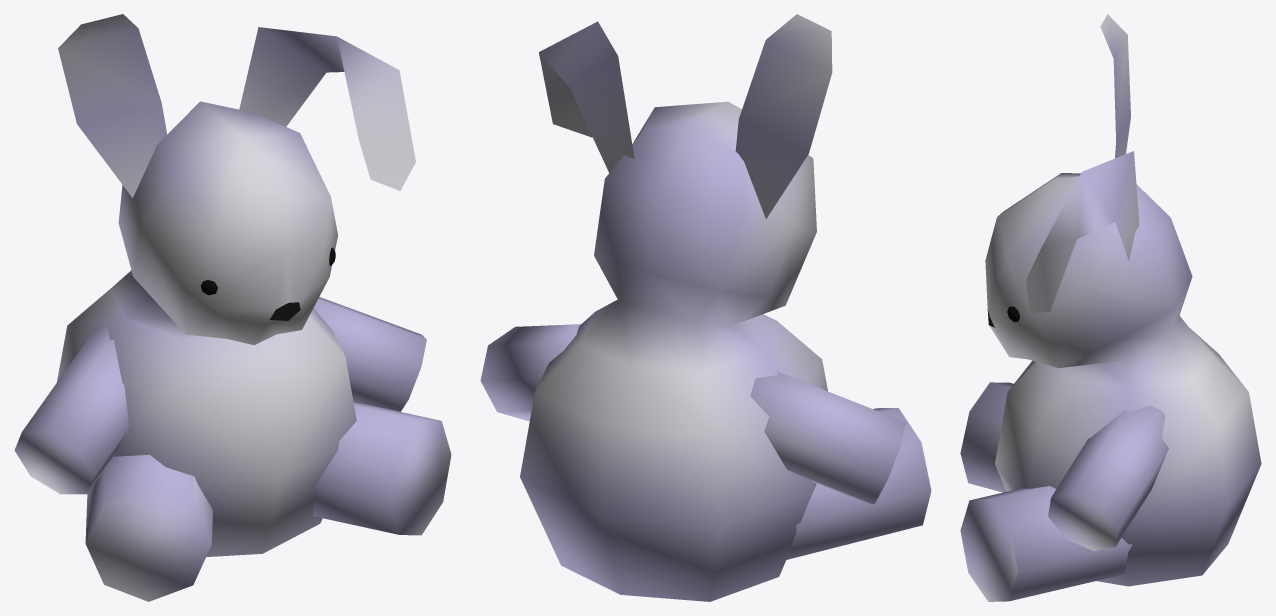
Rendered from bunny.fbx.
The picture shows the model from 3 angles, left to right: view 1: azimuth 30°, elevation 25°; view 2: azimuth 150°, elevation 25°; view 3: azimuth 270°, elevation 25°; orthographic projection. The views are drawn at different scales.
Parts seen in each view (by area): view 1: bunny; view 2: bunny; view 3: bunny.
Part boxes in pixels (<box>): bunny: <box>14,14,451,601</box>; bunny: <box>480,14,931,601</box>; bunny: <box>960,14,1261,601</box>.
Bounding box in the file's own units: 0.6442 × 0.8251 × 0.4729.
